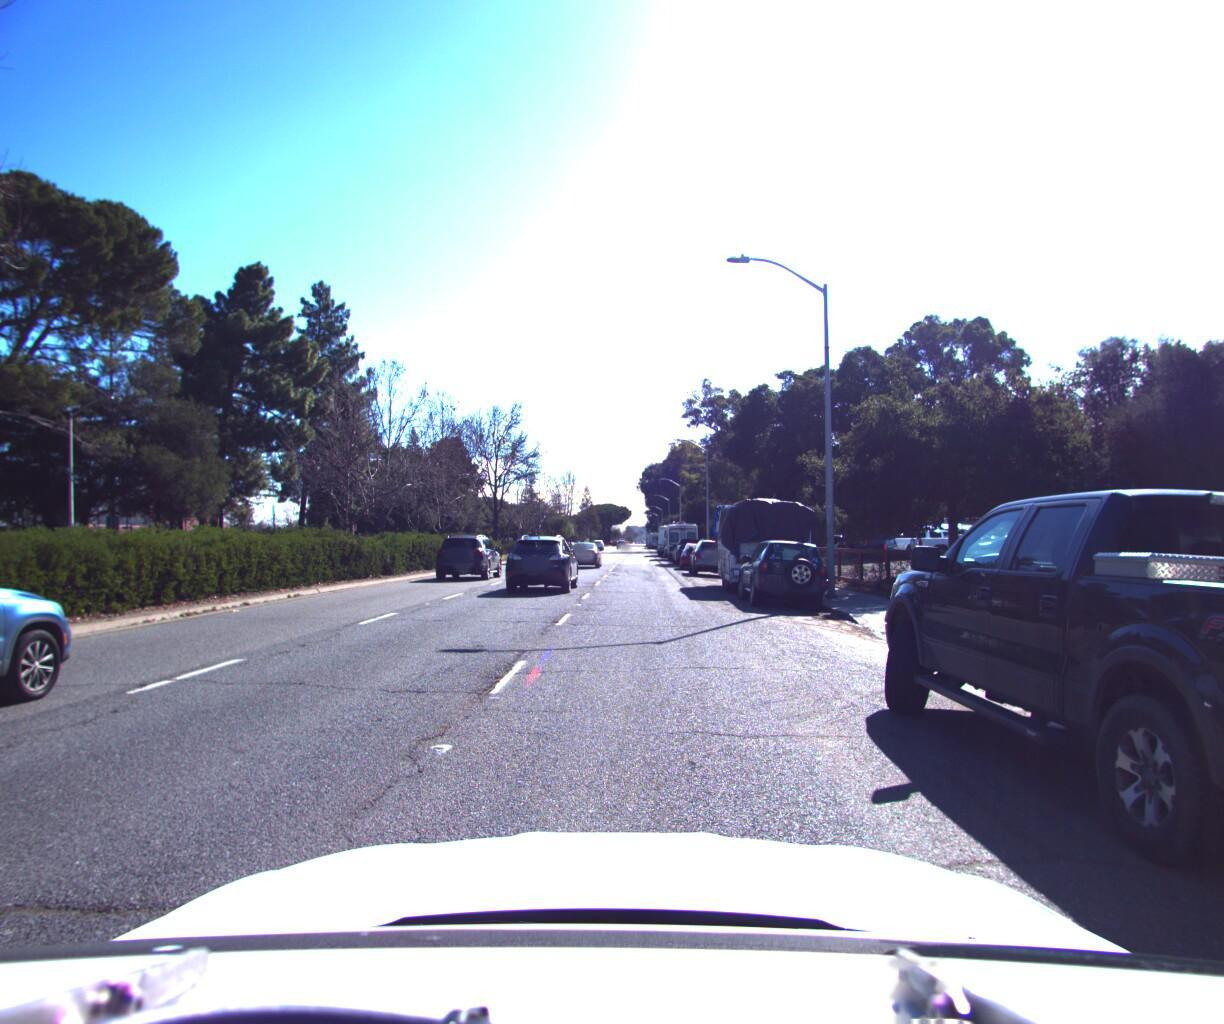car: (838, 451, 1224, 1024), (0, 518, 110, 812), (727, 524, 835, 612), (501, 528, 580, 592), (900, 516, 1012, 553), (435, 528, 504, 578), (876, 520, 975, 553), (845, 521, 940, 552), (682, 531, 738, 574), (674, 535, 711, 566), (567, 536, 604, 563)
other_vehicle: (706, 491, 818, 595), (658, 513, 699, 555), (652, 517, 684, 551)
